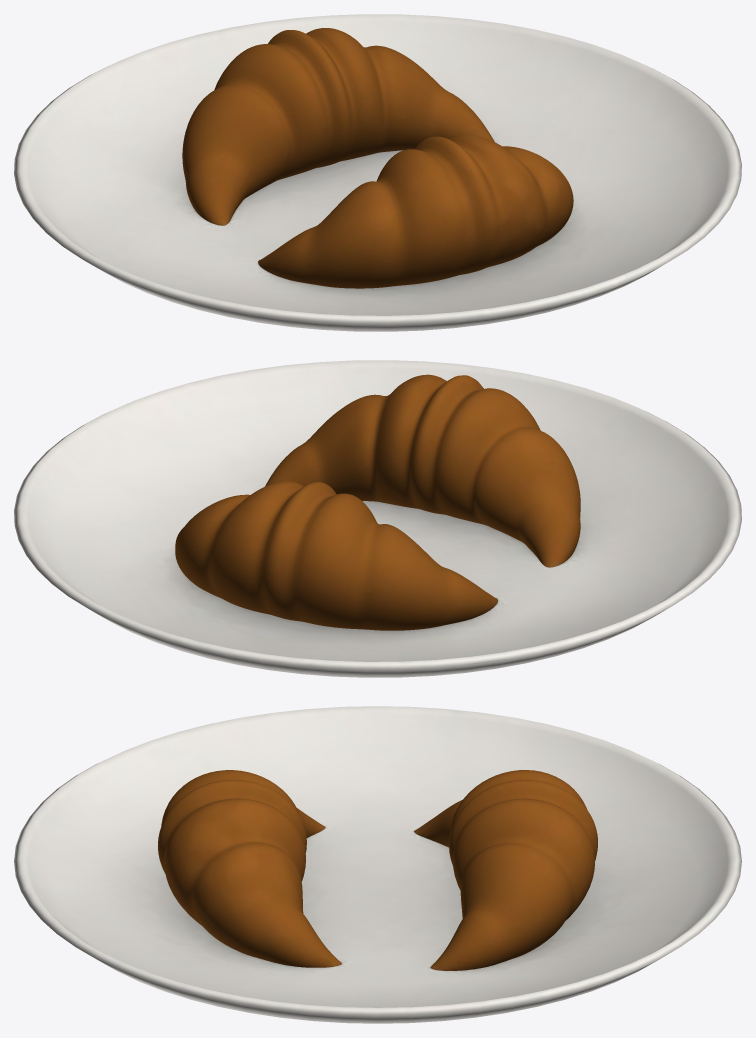
The model's file is two-on-plate.glb.
3 renders of one model, top to bottom at view 1: azimuth 30°, elevation 25°; view 2: azimuth 150°, elevation 25°; view 3: azimuth 270°, elevation 25°, orthographic.
Visible parts, largest first — view 1: ceramic_white, croissant; view 2: ceramic_white, croissant; view 3: ceramic_white, croissant.
Boxes of the visible parts, box(x1,y1,x2,y2) form: ceramic_white: box(14, 14, 741, 331); croissant: box(182, 28, 573, 288); ceramic_white: box(14, 360, 741, 677); croissant: box(175, 374, 580, 630); ceramic_white: box(14, 706, 741, 1023); croissant: box(158, 770, 597, 970).
Bounding box in the file's own units: 0.26 × 0.0519 × 0.26.
2 materials, 2 textured.
